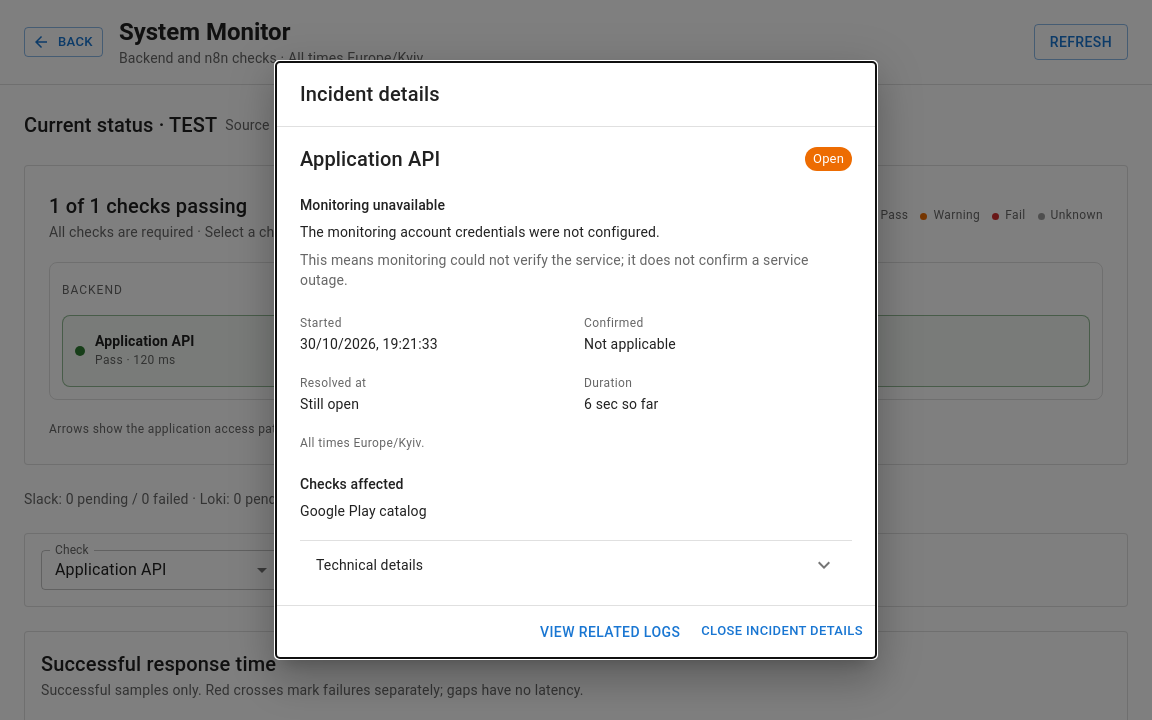
Test case: looks up the exact linked incident and expands coverage details
Check: the text "The monitoring account credentials were not configured." is shown, box [300,224,660,240]
Check: the text "Google Play catalog" is shown, box [300,503,427,519]
Click the button "Technical details": (370, 565) [300,541,852,589]
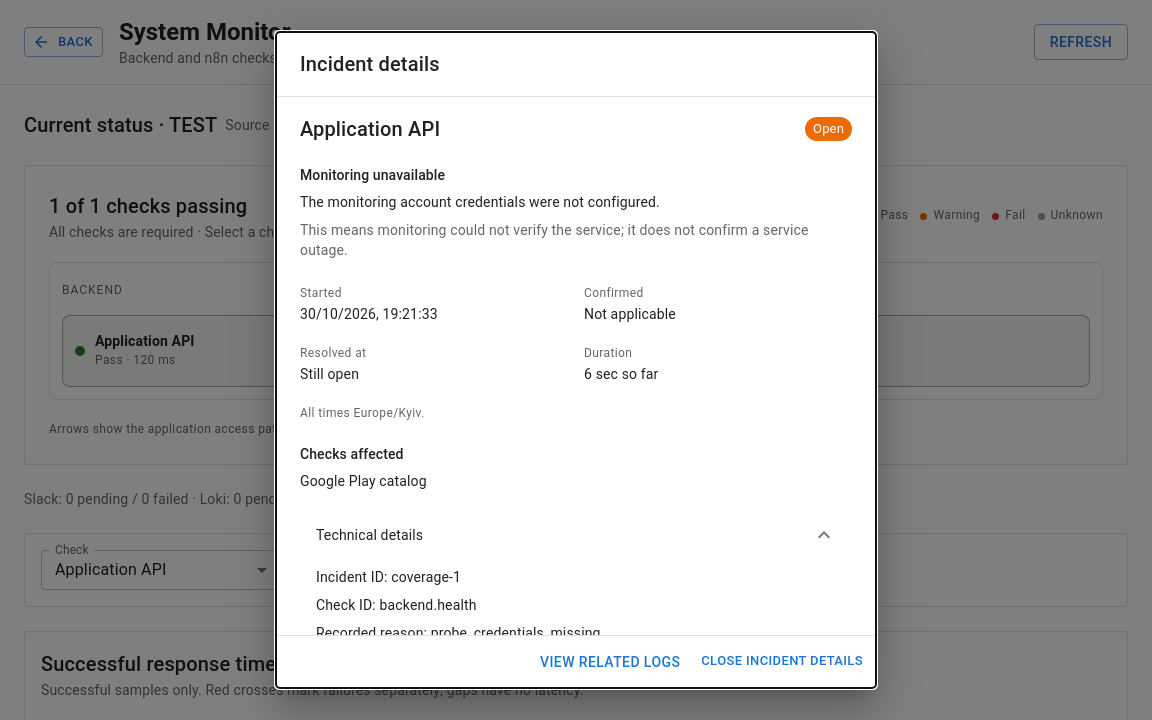
Check: the dialog "Incident details" is shown, box [276,32,876,688]
Check: the text "Incident ID: coverage-1" is shown, box [316,569,461,585]
